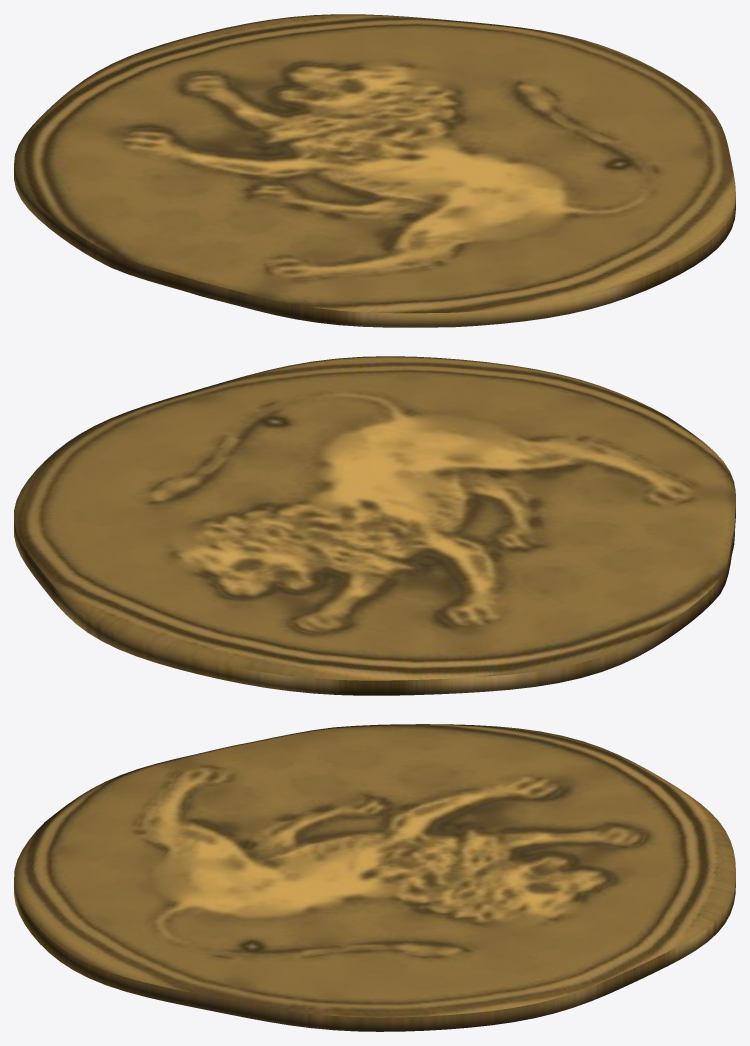
File: zodiac_05.glb
3 views of the same model, one above another, from view 1: azimuth 30°, elevation 25°; view 2: azimuth 150°, elevation 25°; view 3: azimuth 270°, elevation 25° (orthographic). The views are drawn at different scales.
Visible parts, largest first — view 1: zodiac_05; view 2: zodiac_05; view 3: zodiac_05.
Boxes of the visible parts, box(x1,y1,x2,y2) form: zodiac_05: box(14, 14, 735, 327); zodiac_05: box(14, 356, 735, 695); zodiac_05: box(14, 724, 735, 1031).
Size of the model in its own units: 0.9352 by 0.0387 by 0.9724.
Materials: 1 (1 with a texture image).
